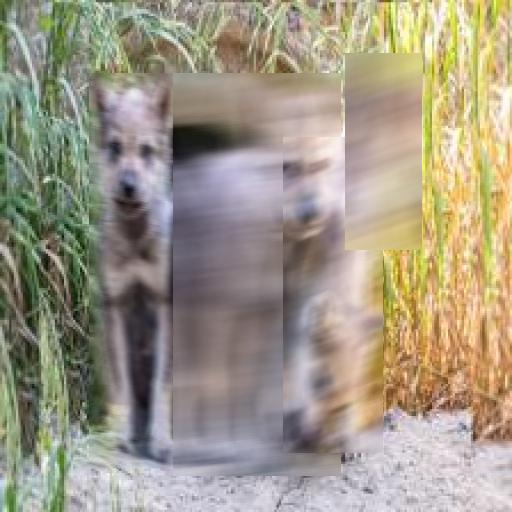wolf: (174, 73, 342, 476), (89, 73, 177, 468), (283, 137, 383, 453), (345, 53, 422, 250)
